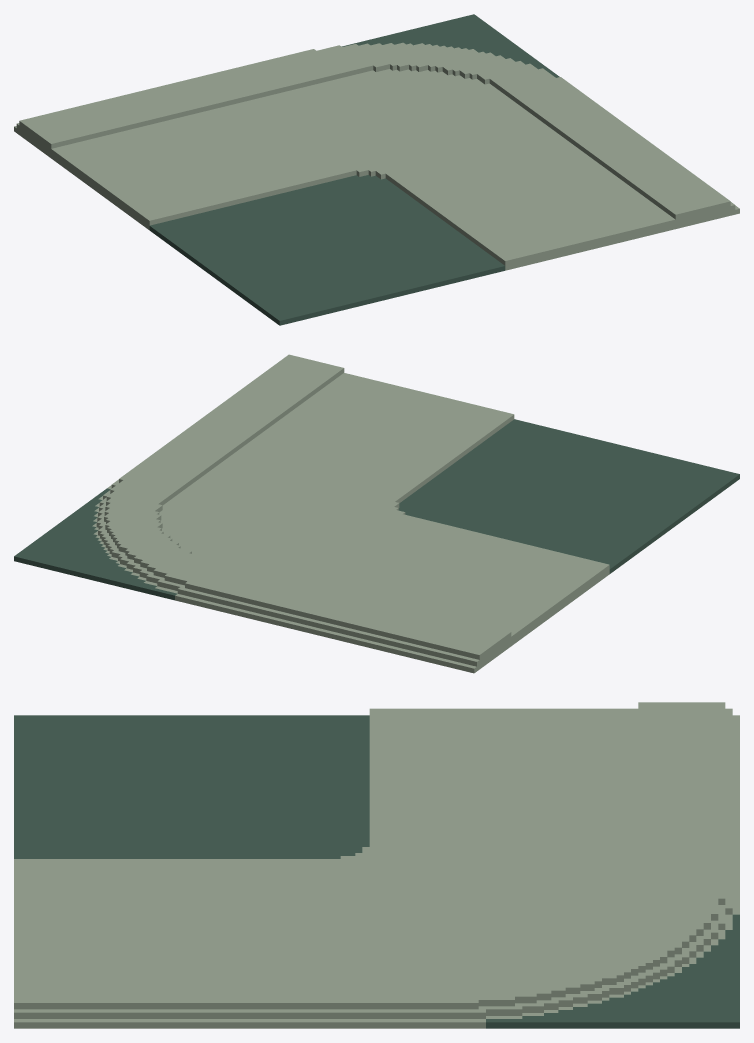
File: vcity_curb_corner_b.glb
3 renders of one model, top to bottom at view 1: azimuth 30°, elevation 25°; view 2: azimuth 150°, elevation 25°; view 3: azimuth 270°, elevation 25°, orthographic. The views are drawn at different scales.
Parts seen in each view (by area): view 1: vcity_curb_corner_b; view 2: vcity_curb_corner_b; view 3: vcity_curb_corner_b.
Part boxes in pixels (x1,y1,x2,y2): vcity_curb_corner_b: (14,14,739,325); vcity_curb_corner_b: (14,354,739,673); vcity_curb_corner_b: (14,702,739,1028).
Bounding box in the file's own units: 5 × 0.15 × 5.
1 material, 1 textured.
